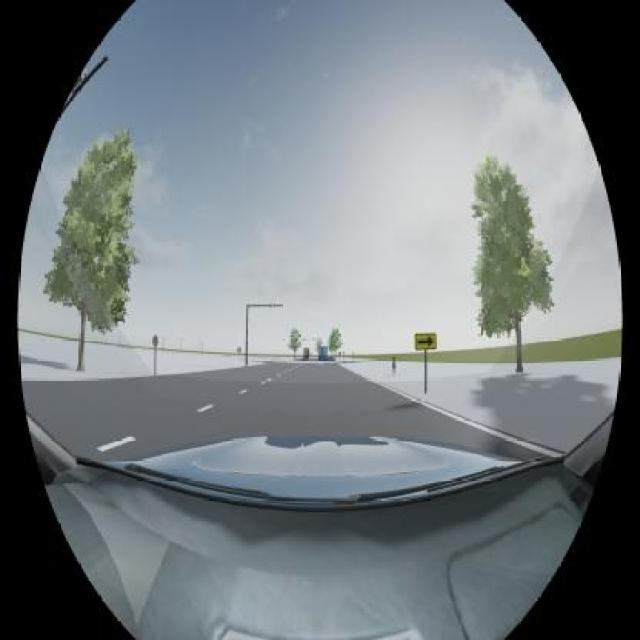forb_speed_over_30: (152, 333, 159, 347)
